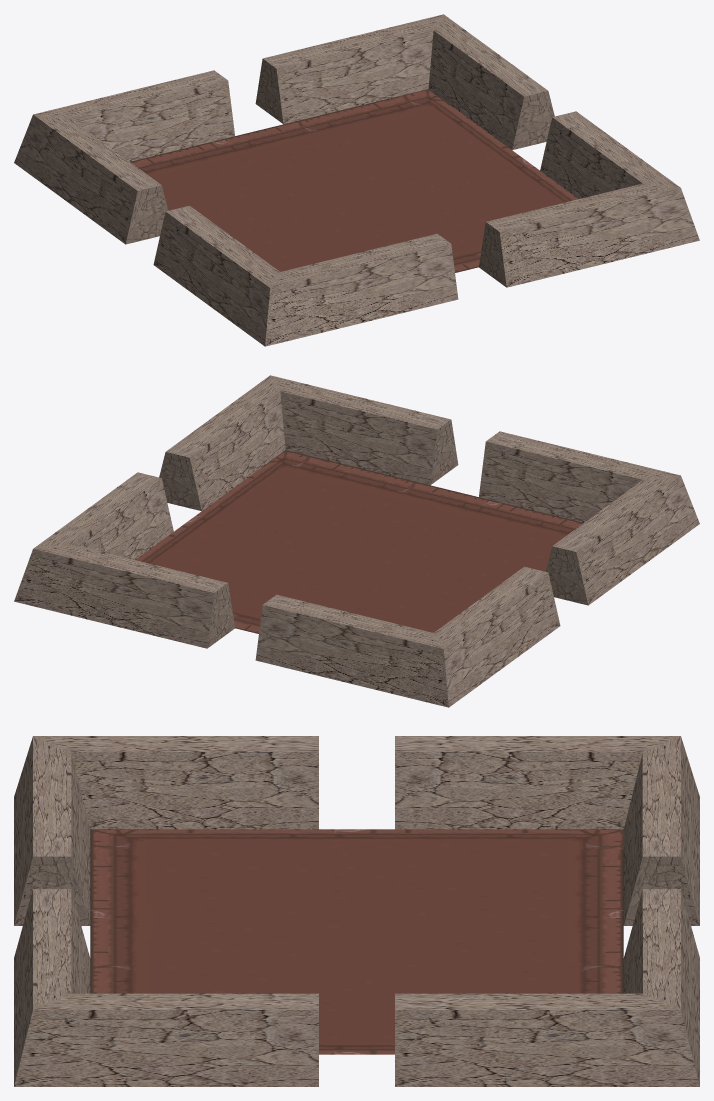
Rendered from sala.obj.
The picture shows the model from 3 angles, top to bottom: view 1: azimuth 30°, elevation 25°; view 2: azimuth 150°, elevation 25°; view 3: azimuth 270°, elevation 25°; orthographic projection. The views are drawn at different scales.
Visible parts, largest first — view 1: Wall.004_Cube.015; view 2: Wall.004_Cube.015; view 3: Wall.004_Cube.015.
Boxes of the visible parts, box(x1,y1,x2,y2) form: Wall.004_Cube.015: box(14, 14, 699, 346); Wall.004_Cube.015: box(14, 375, 699, 707); Wall.004_Cube.015: box(14, 736, 699, 1086).
Bounding box in the file's own units: 18 × 2 × 18.
